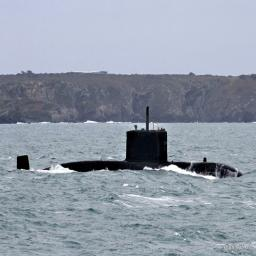submarine: (17, 107, 249, 173)
